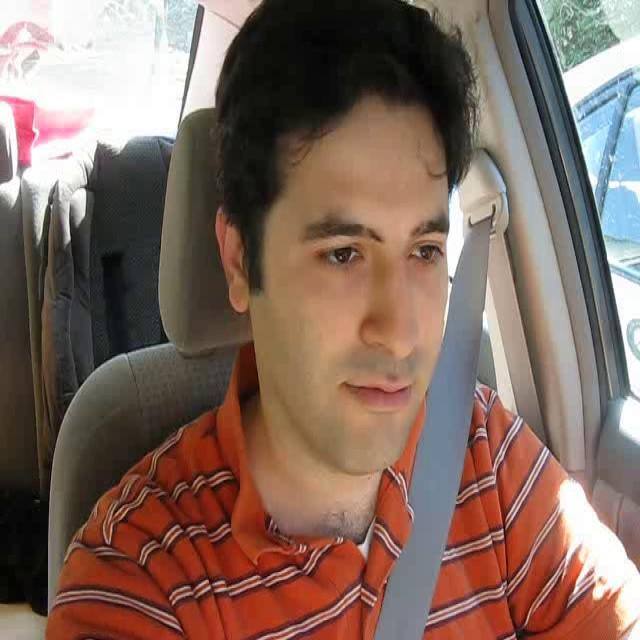close: (338, 373, 418, 417)
